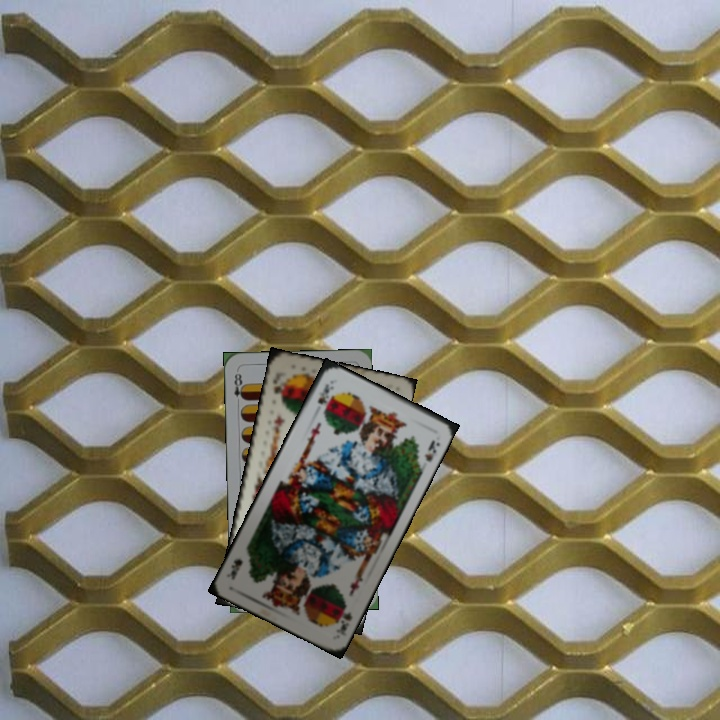E8: (230, 367, 247, 408)
SK: (332, 600, 354, 634), (313, 380, 336, 407), (268, 376, 286, 404)
